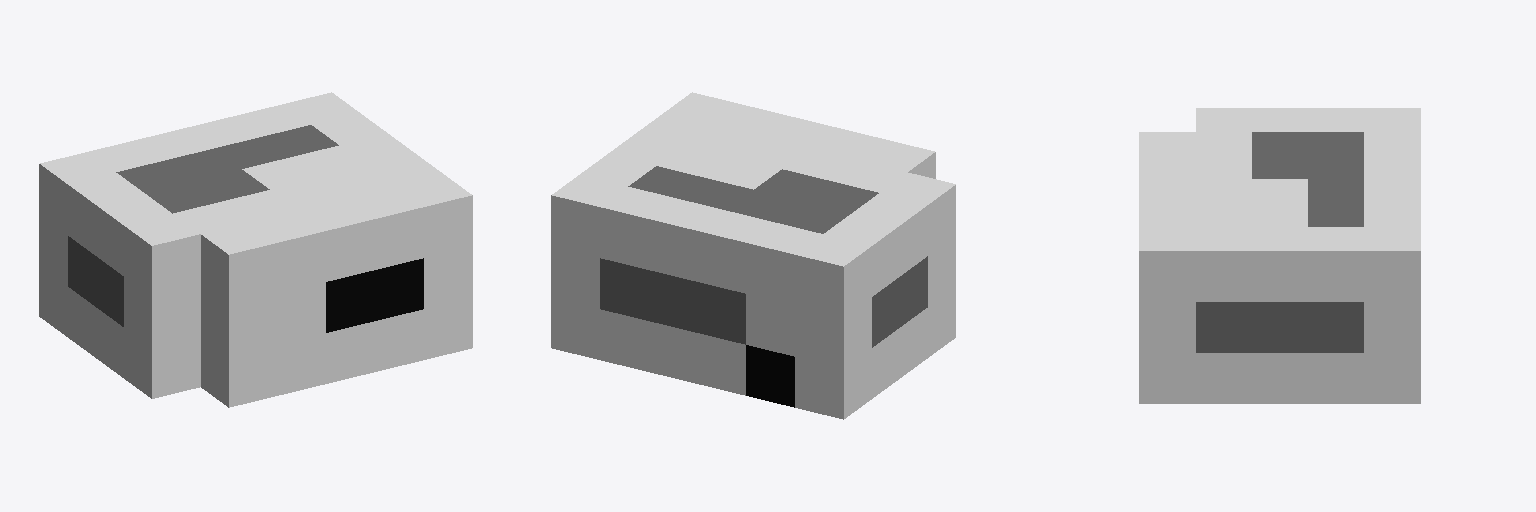
The picture shows the model from 3 angles: view 1: azimuth 30°, elevation 25°; view 2: azimuth 150°, elevation 25°; view 3: azimuth 270°, elevation 25°; orthographic projection.
Visible parts, largest first — view 1: projector_45; view 2: projector_45; view 3: projector_45.
Part boxes in pixels (left/top/right/bottom): projector_45: left=39, top=92, right=472, bottom=407; projector_45: left=551, top=92, right=955, bottom=419; projector_45: left=1139, top=108, right=1420, bottom=403.
Bounding box in the file's own units: 0.6 × 0.3 × 0.5.
1 materials, 1 textured.